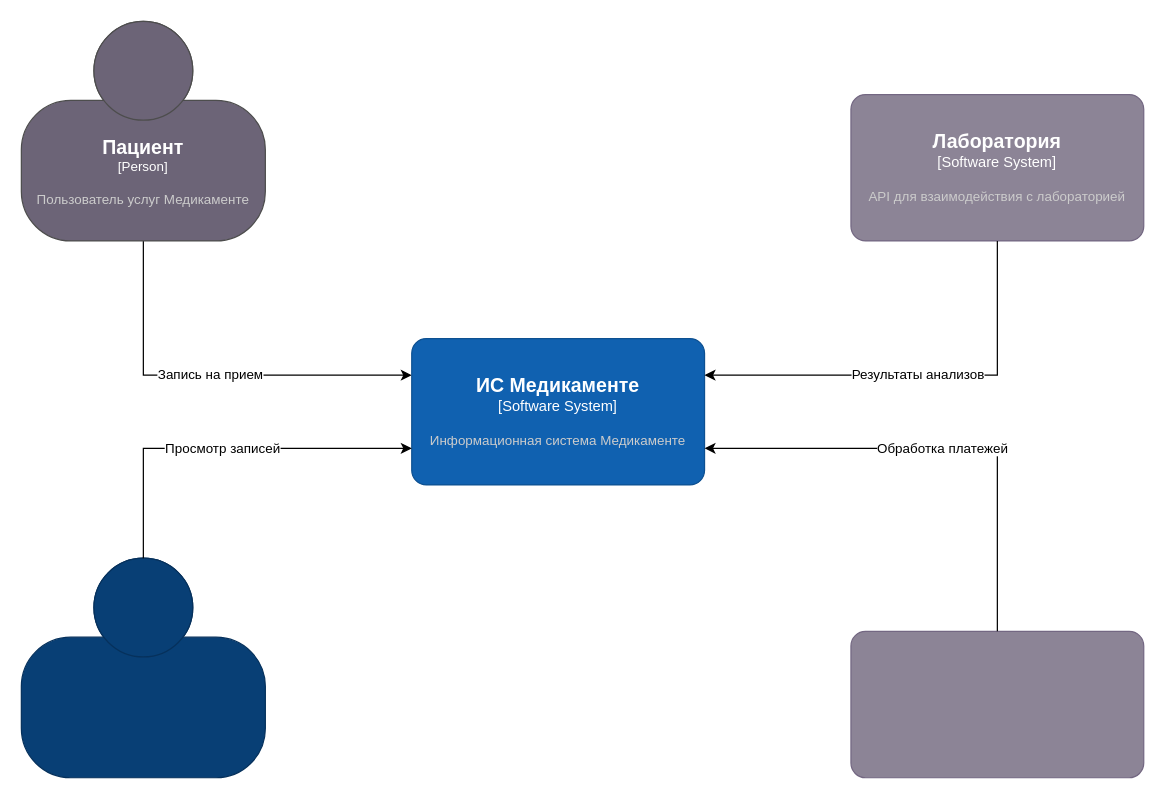
The diagram is 1165 pixels wide and 799 high, and some of its shapes have lost their labels. The shapes that lost their labels are listed below. From the top down, each one's centre as x and y in pixels, then its label:
point 142,667: Врач [Person] Сотрудник компании Медикаменте
point 997,704: Платежный шлюз [Software System] API для взаимодействия с платежным шлюзом.
